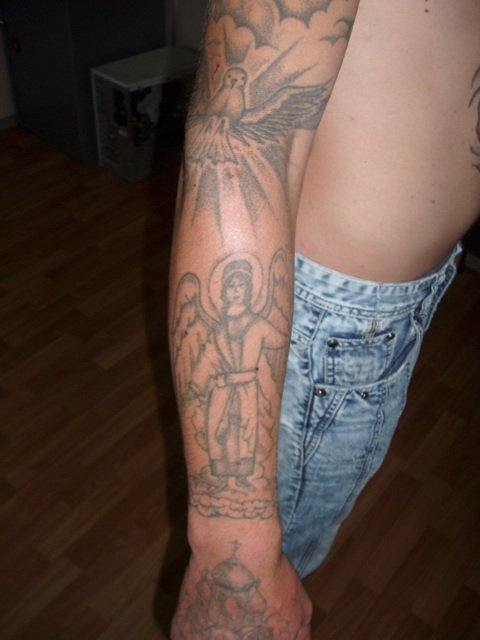tatu1_angel: (165, 244, 301, 488)
